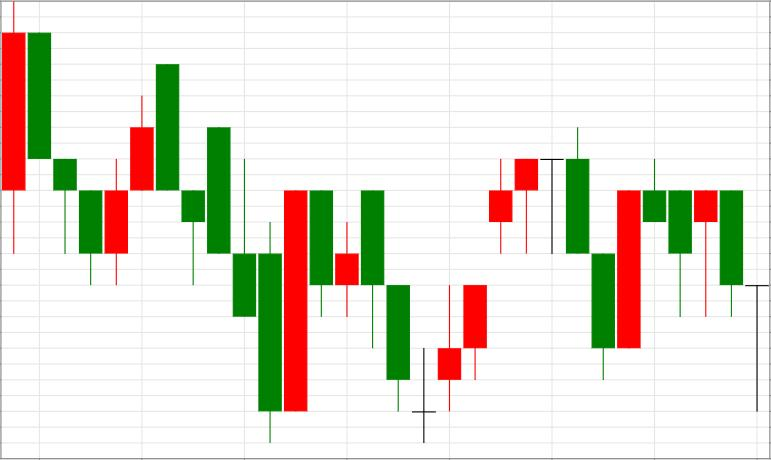hanging_man_fall: (412, 160, 538, 443)
